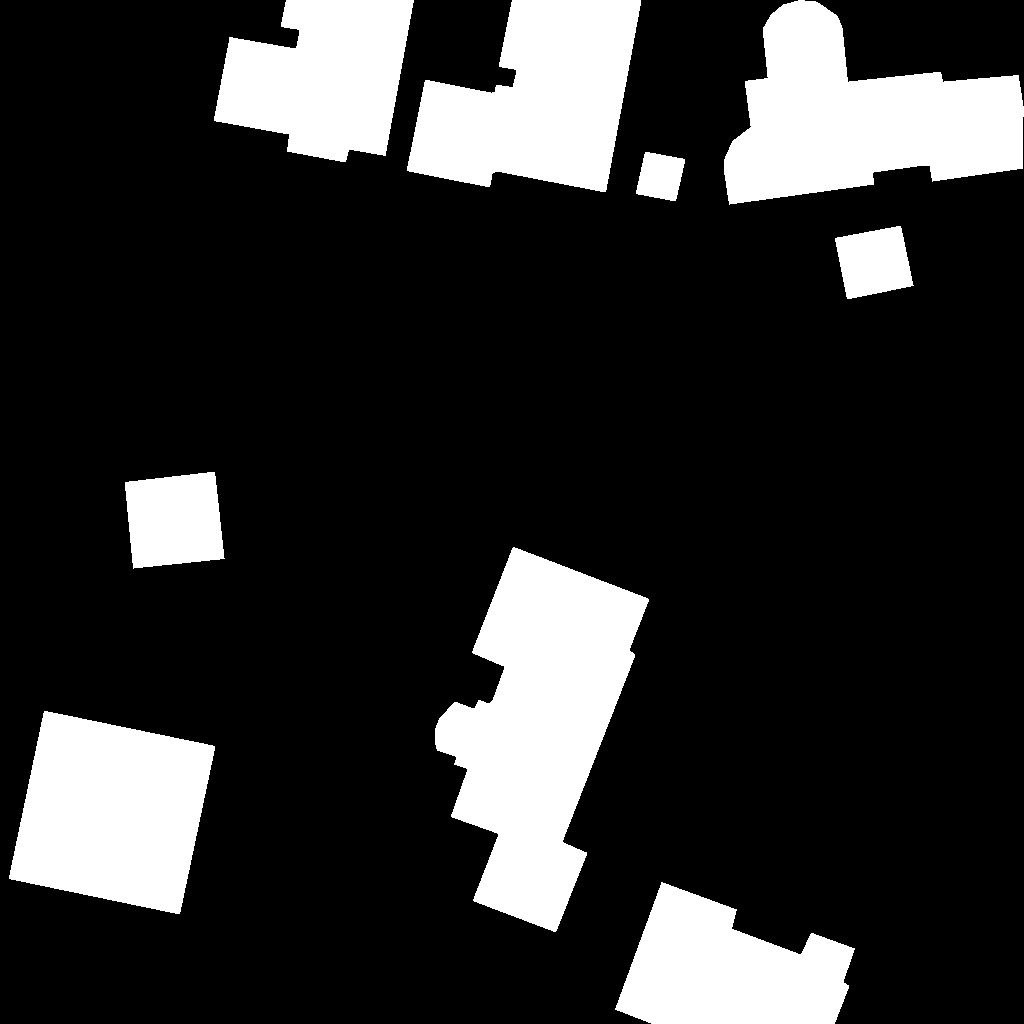building: (435, 547, 650, 933), (724, 0, 1024, 205), (407, 0, 642, 193), (9, 711, 216, 915), (615, 882, 856, 1024), (214, 0, 415, 163), (125, 472, 225, 569), (835, 226, 914, 300), (636, 152, 686, 202)
